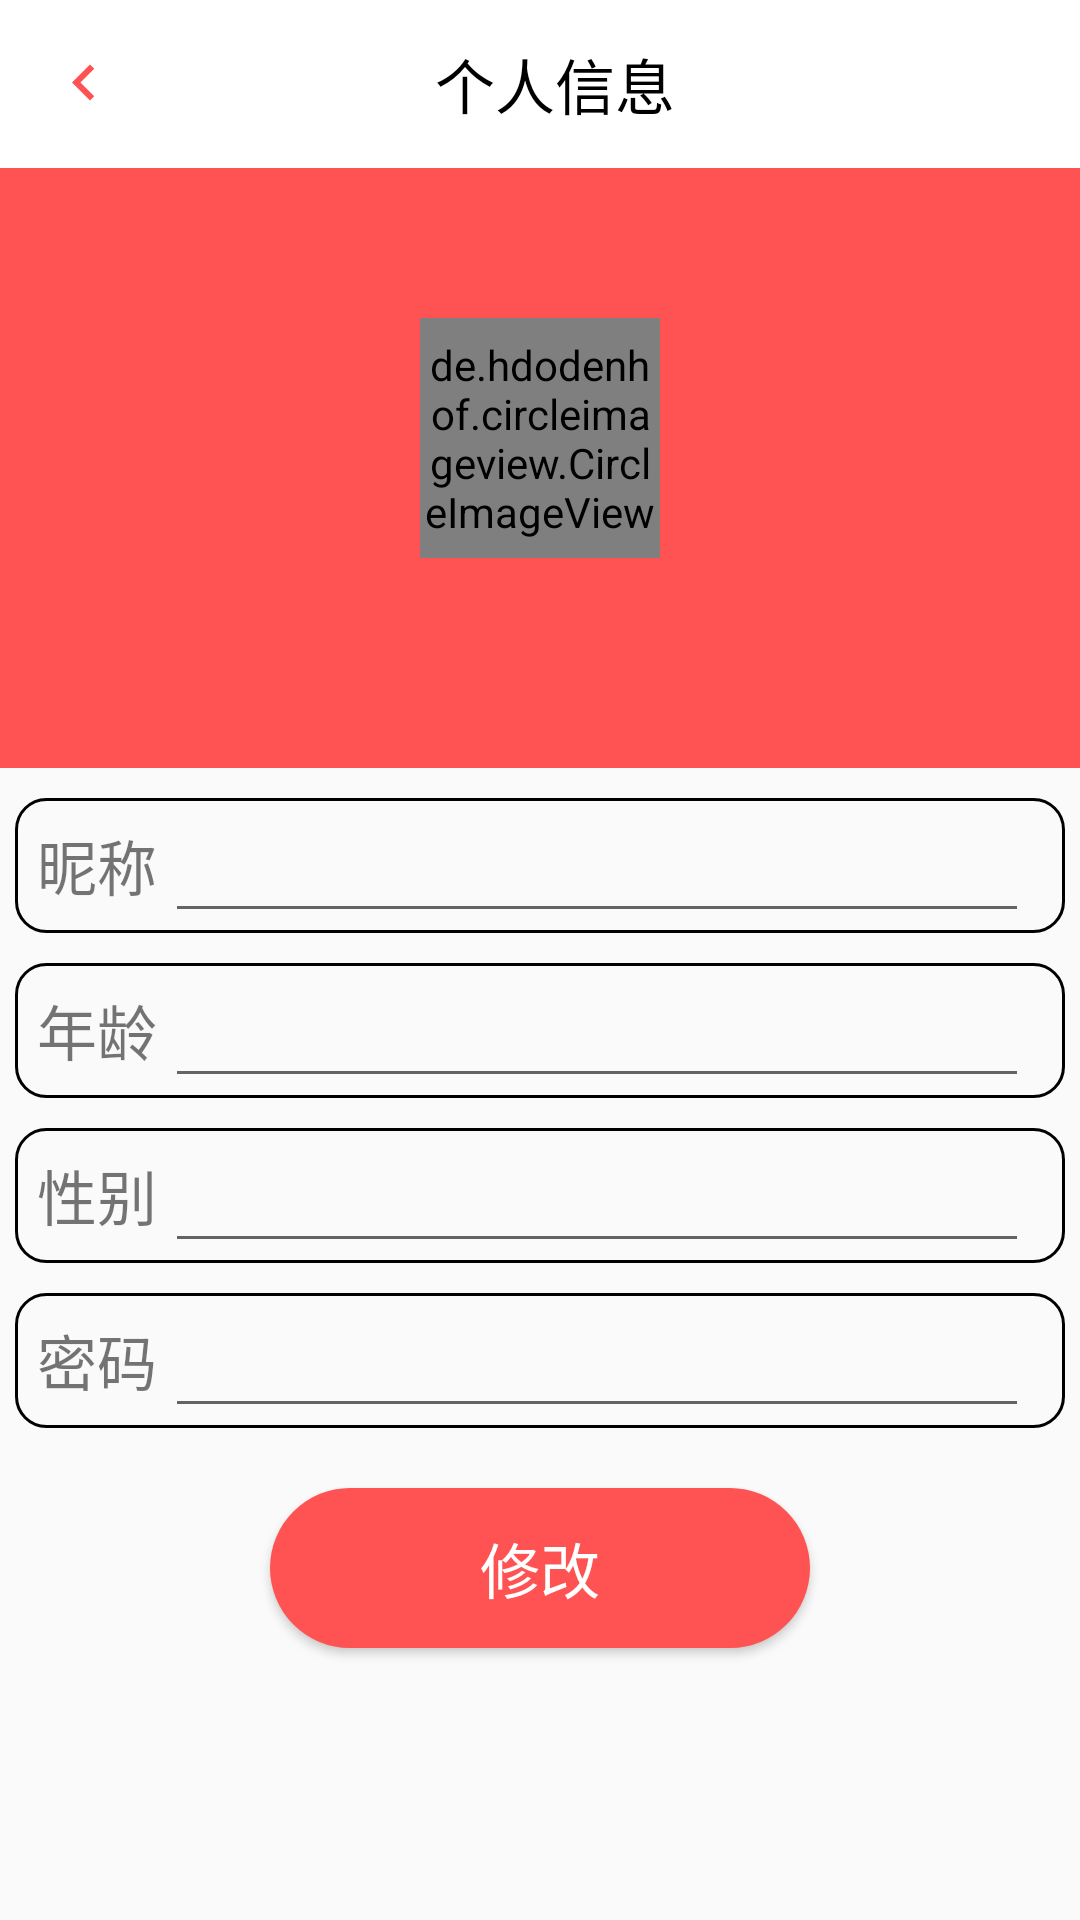

Screen size 1080*1920. Icon name, then its center in pixels as point (x, y):
back: point (83, 82)
